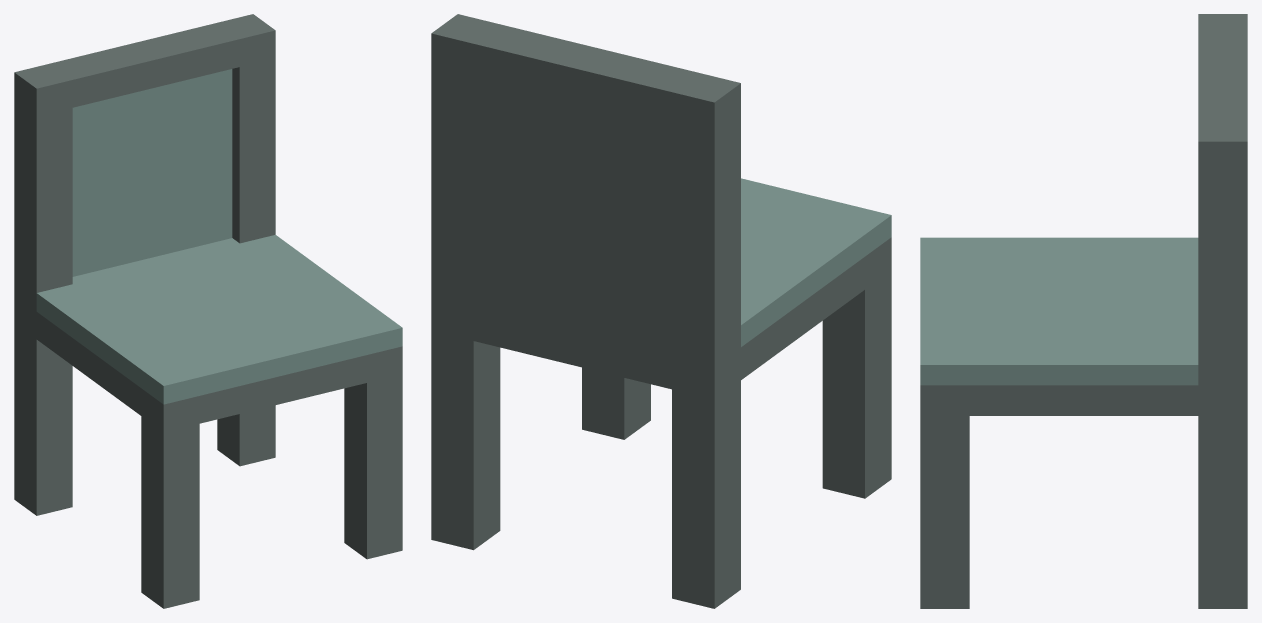
The model's file is dining_chair.glb.
3 renders of one model, left to right at view 1: azimuth 30°, elevation 25°; view 2: azimuth 150°, elevation 25°; view 3: azimuth 270°, elevation 25°, orthographic. The views are drawn at different scales.
Visible parts, largest first — view 1: chairModernCushion(Clone); view 2: chairModernCushion(Clone); view 3: chairModernCushion(Clone).
Boxes of the visible parts, x1,y1,x2,y2 form: chairModernCushion(Clone): (14,14,402,608); chairModernCushion(Clone): (431,14,891,608); chairModernCushion(Clone): (920,14,1247,608).
Bounding box in the file's own units: 0.48 × 0.82 × 0.52.
